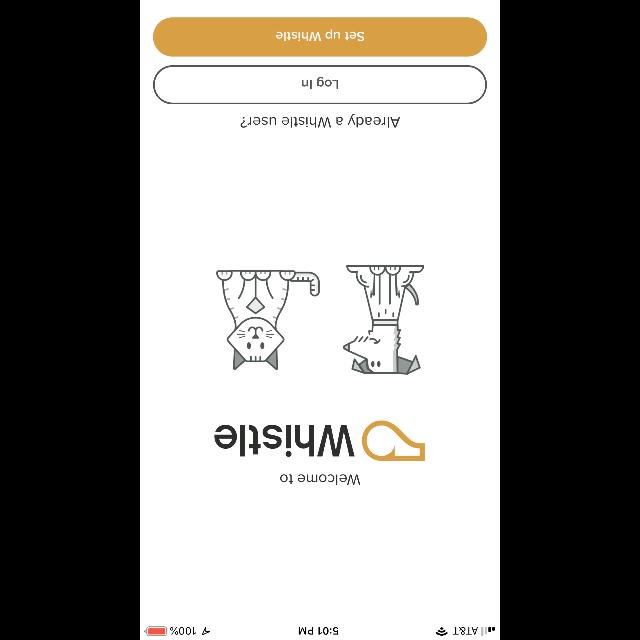image: (216, 270, 320, 370), (342, 265, 424, 375), (362, 420, 424, 460)
text: (214, 425, 354, 457), (240, 114, 400, 128), (280, 474, 360, 486)
textbutton: (153, 66, 487, 104), (153, 18, 487, 56)
uppertaskbar: (140, 626, 500, 640)
